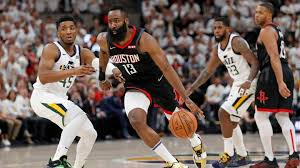ball: (168, 110, 197, 139)
